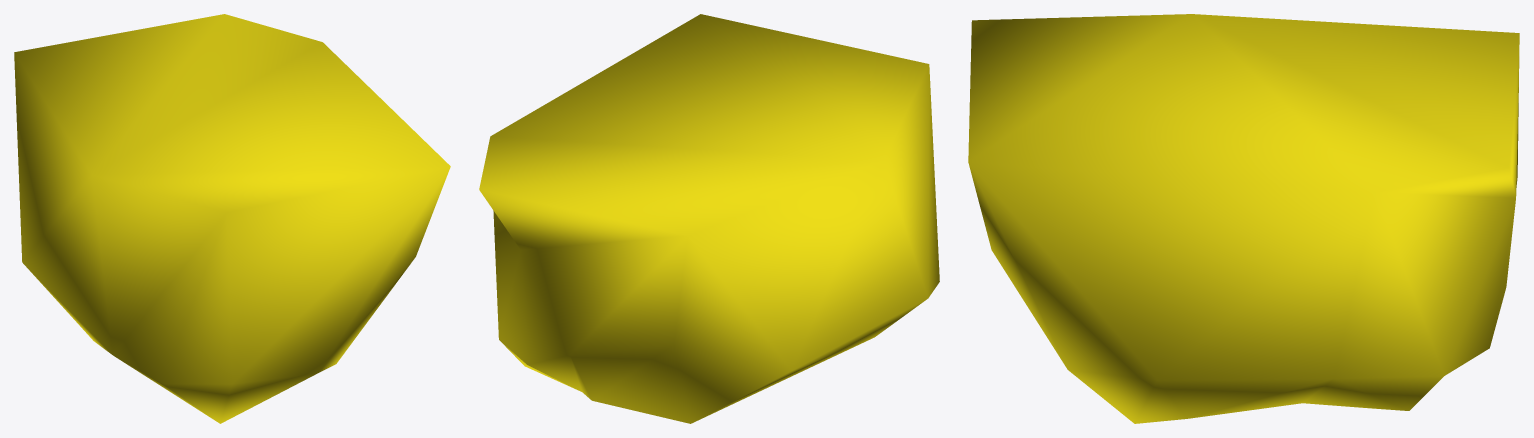
Rendered from D28N_NUC.obj.
The picture shows the model from 3 angles, left to right: view 1: azimuth 30°, elevation 25°; view 2: azimuth 150°, elevation 25°; view 3: azimuth 270°, elevation 25°; orthographic projection. The views are drawn at different scales.
Parts seen in each view (by area): view 1: D28N_NUC; view 2: D28N_NUC; view 3: D28N_NUC.
Part boxes in pixels (<box>): D28N_NUC: <box>14,14,450,423</box>; D28N_NUC: <box>479,14,939,423</box>; D28N_NUC: <box>968,14,1519,423</box>.
Size of the model in its own units: 5.77 by 4.22 by 6.97.
